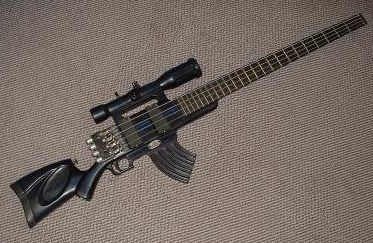rifle: (15, 24, 340, 230)
